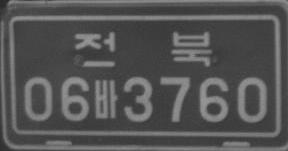0: (235, 76, 268, 123), (23, 75, 54, 122)
3: (123, 76, 154, 123)
6: (198, 76, 229, 122), (60, 74, 89, 122)
7: (158, 75, 192, 122)
바: (93, 79, 118, 119)
전북_D: (74, 31, 213, 67)
